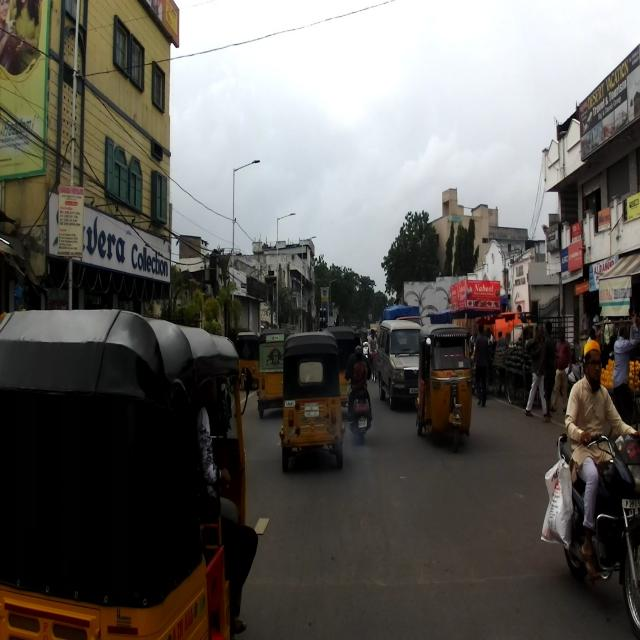autorickshaw: (0, 310, 258, 639), (278, 331, 346, 474), (416, 319, 475, 454)
motorcycle_Hero: (556, 433, 640, 640)
scooter: (344, 373, 373, 443)
